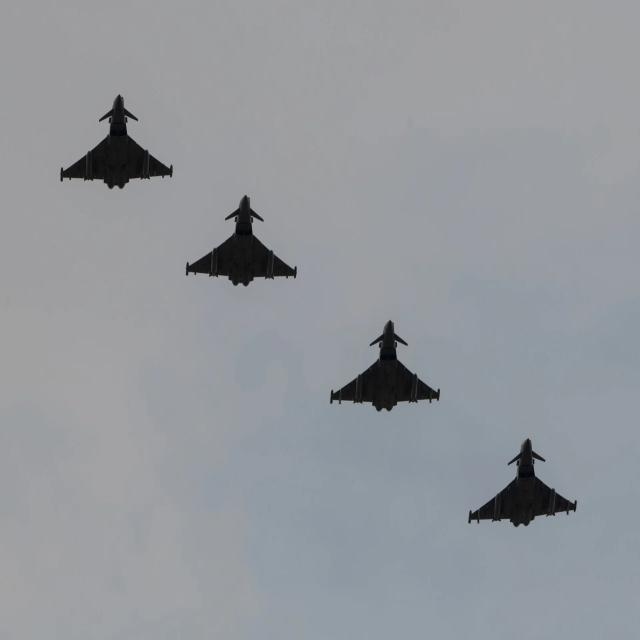MIL_Plane: (60, 94, 173, 191), (185, 194, 298, 287), (330, 320, 440, 412), (467, 438, 578, 528)
